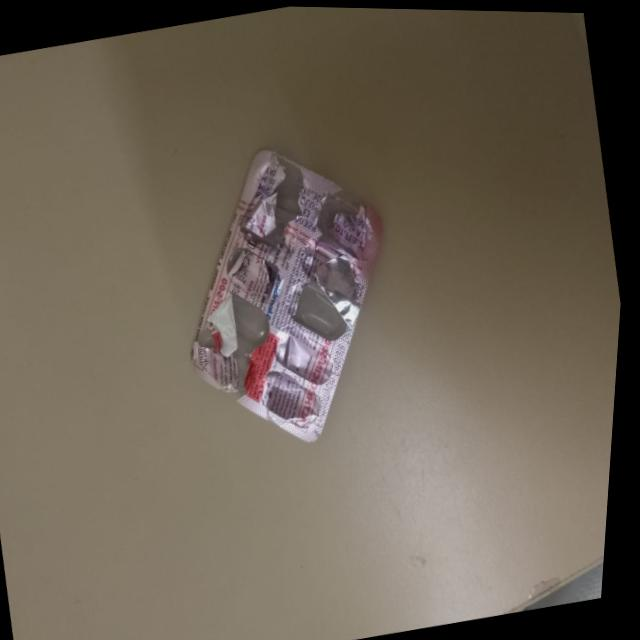medicine: (170, 129, 410, 472)
